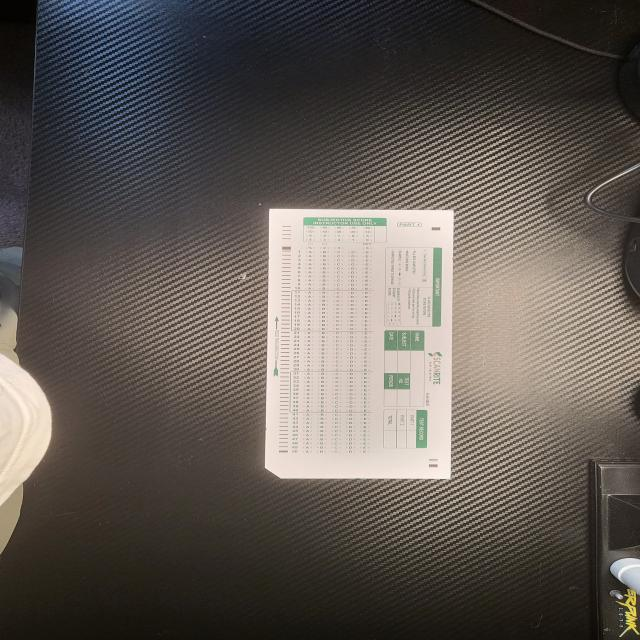scantron: (263, 209, 456, 479)
